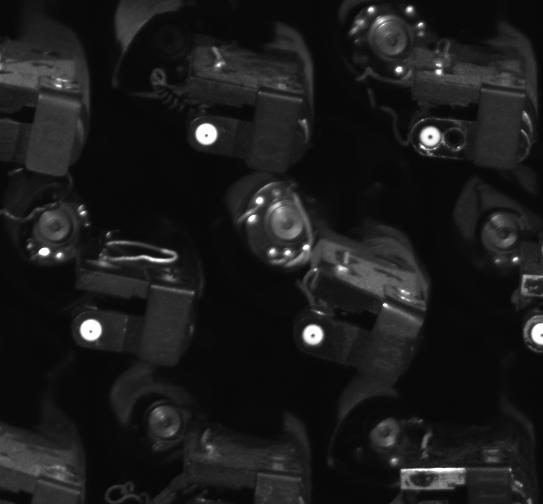fiber: (186, 117, 226, 151), (296, 319, 330, 352), (74, 312, 107, 345), (414, 122, 447, 153), (527, 313, 543, 350)
